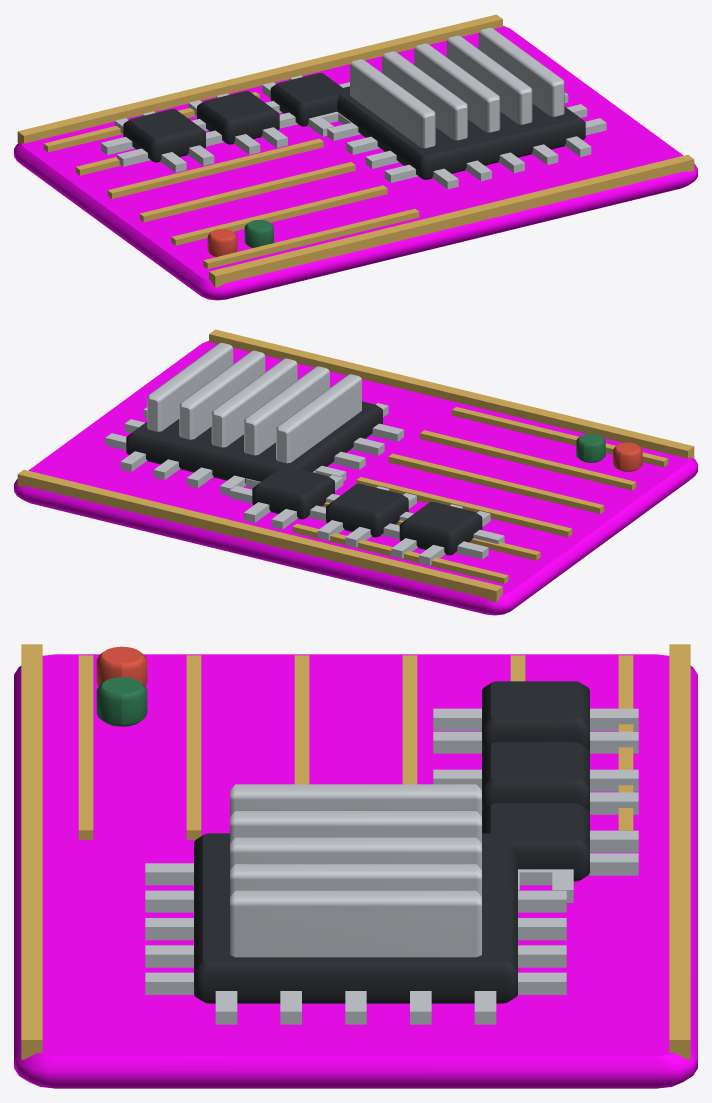
File: objet_circuit_avance.glb
The picture shows the model from 3 angles, top to bottom: view 1: azimuth 30°, elevation 25°; view 2: azimuth 150°, elevation 25°; view 3: azimuth 270°, elevation 25°; orthographic projection. The views are drawn at different scales.
Visible parts, largest first — view 1: circuit_teinte.004, circuit_piste_or.004, circuit_composant_clair.004, circuit_composant.004, circuit_led_rouge.002, circuit_pcb_vert.002; view 2: circuit_teinte.004, circuit_piste_or.004, circuit_composant_clair.004, circuit_composant.004, circuit_led_rouge.002, circuit_pcb_vert.002; view 3: circuit_teinte.004, circuit_composant_clair.004, circuit_composant.004, circuit_piste_or.004, circuit_pcb_vert.002, circuit_led_rouge.002.
Part boxes in pixels (left/top/right/bottom): circuit_teinte.004: left=14, top=26, right=697, bottom=300; circuit_piste_or.004: left=17, top=14, right=694, bottom=287; circuit_composant_clair.004: left=101, top=27, right=606, bottom=189; circuit_composant.004: left=123, top=73, right=585, bottom=179; circuit_led_rouge.002: left=207, top=229, right=237, bottom=257; circuit_pcb_vert.002: left=244, top=220, right=273, bottom=248; circuit_teinte.004: left=14, top=341, right=697, bottom=615; circuit_piste_or.004: left=17, top=329, right=694, bottom=602; circuit_composant_clair.004: left=105, top=342, right=504, bottom=565; circuit_composant.004: left=126, top=401, right=482, bottom=555; circuit_led_rouge.002: left=613, top=442, right=642, bottom=471; circuit_pcb_vert.002: left=576, top=433, right=605, bottom=462; circuit_teinte.004: left=14, top=654, right=697, bottom=1088; circuit_composant_clair.004: left=145, top=708, right=638, bottom=1024; circuit_composant.004: left=194, top=681, right=589, bottom=1003; circuit_piste_or.004: left=21, top=644, right=690, bottom=1059; circuit_pcb_vert.002: left=96, top=677, right=147, bottom=726; circuit_led_rouge.002: left=96, top=646, right=147, bottom=686.
Bounding box in the file's own units: 0.27 × 0.04 × 0.19.
